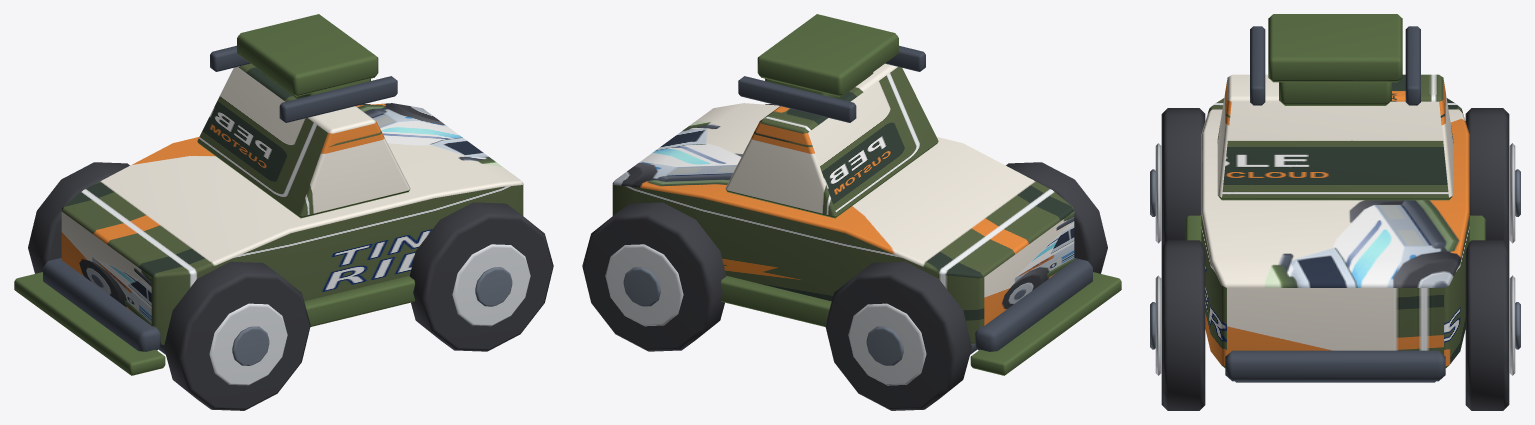
3 views of the same model, side by side, from view 1: azimuth 30°, elevation 25°; view 2: azimuth 150°, elevation 25°; view 3: azimuth 270°, elevation 25° (orthographic). The views are drawn at different scales.
Visible parts, largest first — view 1: DP-01_connected_shell, DP-01_cabin, Tire, Tire.002, utility load, custom chin, front bumper, Rim, Rim.002, Tire.001, custom side guard, utility rail (+3 smaller); view 2: DP-01_connected_shell, DP-01_cabin, Tire.001, Tire.003, utility load, custom chin, front bumper, Rim.001, Rim.003, Tire, custom side guard.001, utility rail.001 (+3 smaller); view 3: DP-01_connected_shell, DP-01_cabin, utility load, Tire.002, Tire.003, rear bumper, Tire, Tire.001, custom equipment, utility rail, utility rail.001, Rim (+6 smaller).
Part boxes in pixels (x1=…): DP-01_connected_shell: x1=61, y1=103, x2=523, y2=344; DP-01_cabin: x1=197, y1=63, x2=410, y2=218; Tire: x1=164, y1=261, x2=310, y2=410; Tire.002: x1=409, y1=202, x2=553, y2=351; utility load: x1=237, y1=14, x2=378, y2=96; custom chin: x1=14, y1=272, x2=165, y2=375; front bumper: x1=43, y1=258, x2=161, y2=351; Rim: x1=209, y1=303, x2=287, y2=385; Rim.002: x1=452, y1=244, x2=530, y2=326; Tire.001: x1=28, y1=162, x2=129, y2=273; custom side guard: x1=304, y1=275, x2=415, y2=326; utility rail: x1=279, y1=76, x2=397, y2=122; DP-01_connected_shell: x1=612, y1=103, x2=1074, y2=344; DP-01_cabin: x1=725, y1=63, x2=938, y2=218; Tire.001: x1=825, y1=261, x2=971, y2=410; Tire.003: x1=582, y1=202, x2=726, y2=351; utility load: x1=757, y1=14, x2=898, y2=96; custom chin: x1=970, y1=272, x2=1121, y2=375; front bumper: x1=974, y1=258, x2=1092, y2=351; Rim.001: x1=848, y1=303, x2=926, y2=385; Rim.003: x1=605, y1=244, x2=683, y2=326; Tire: x1=1006, y1=162, x2=1107, y2=273; custom side guard.001: x1=720, y1=275, x2=831, y2=326; utility rail.001: x1=738, y1=76, x2=856, y2=122; DP-01_connected_shell: x1=1201, y1=98, x2=1469, y2=367; DP-01_cabin: x1=1217, y1=74, x2=1453, y2=200; utility load: x1=1268, y1=14, x2=1402, y2=82; Tire.002: x1=1161, y1=240, x2=1205, y2=410; Tire.003: x1=1465, y1=240, x2=1509, y2=410; rear bumper: x1=1225, y1=350, x2=1445, y2=381; Tire: x1=1161, y1=108, x2=1205, y2=246; Tire.001: x1=1465, y1=108, x2=1509, y2=246; custom equipment: x1=1279, y1=82, x2=1391, y2=105; utility rail: x1=1250, y1=26, x2=1265, y2=105; utility rail.001: x1=1405, y1=26, x2=1420, y2=105; Rim: x1=1155, y1=143, x2=1161, y2=243.
Bounding box in the file's own units: 320 × 205 × 221.
